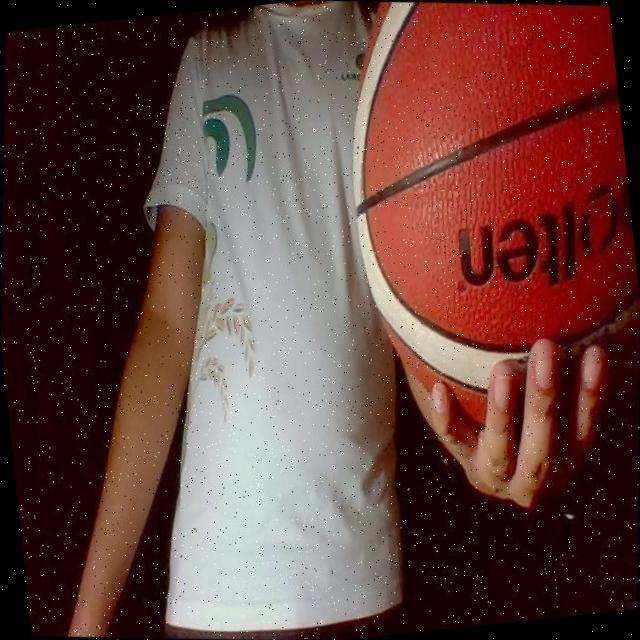ball: (297, 0, 640, 485)
